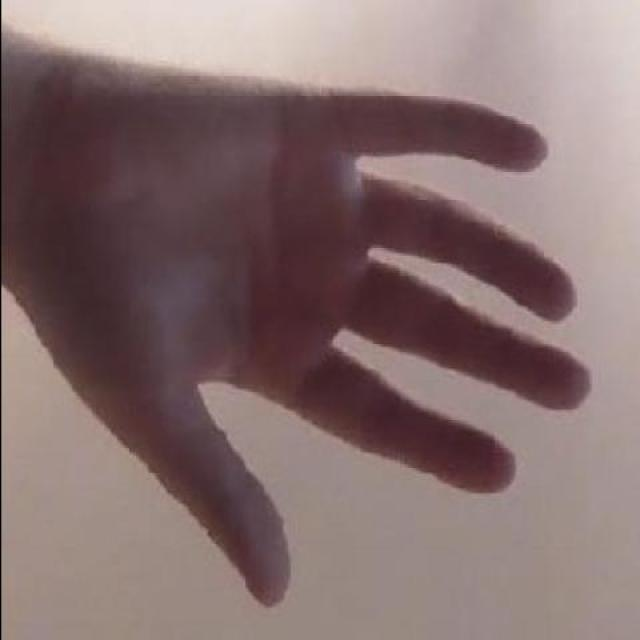Open Hand: (0, 28, 611, 612)
